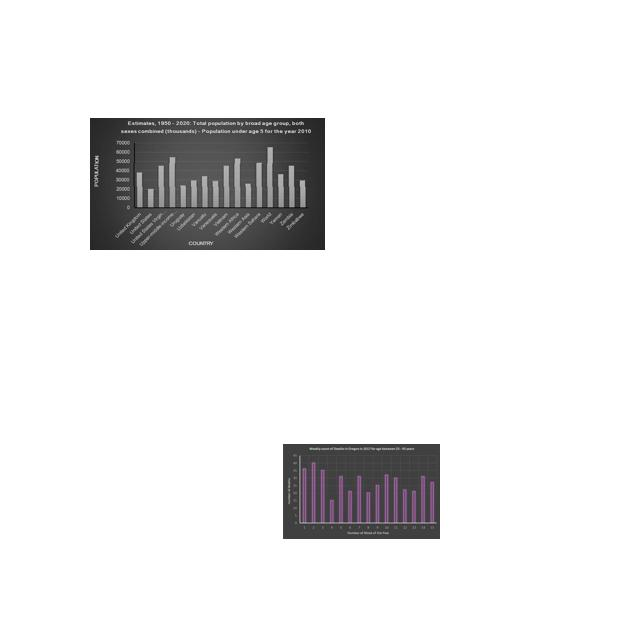Graph: (90, 118, 325, 250), (283, 444, 440, 539)
